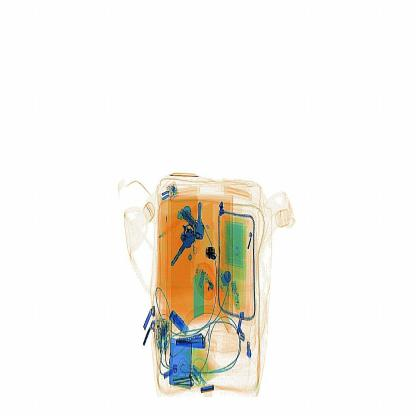scissors: (204, 244, 218, 264)
